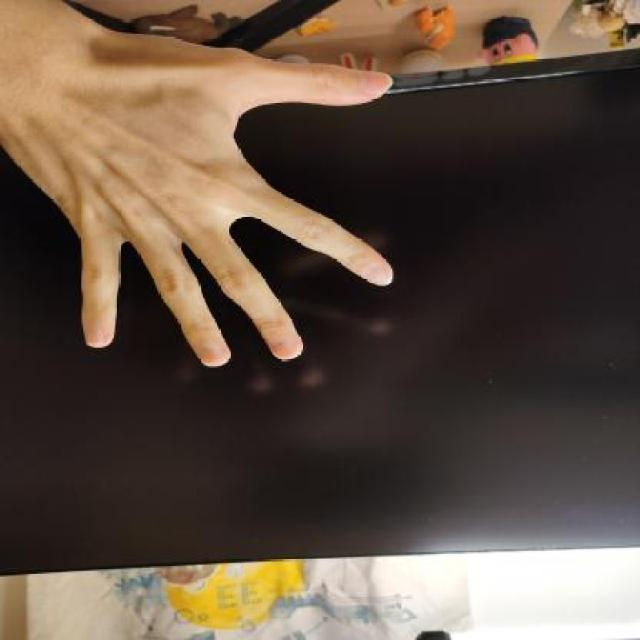bare_hand: (2, 0, 407, 385)
